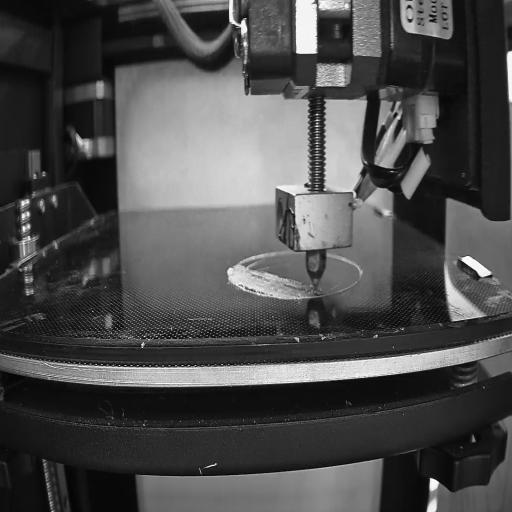under_extrusion: (237, 250, 278, 278), (233, 280, 278, 303), (280, 280, 316, 300)
